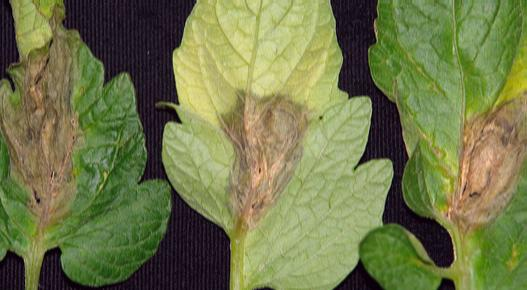Tomato mold leaf: (167, 0, 393, 290), (369, 0, 527, 290), (0, 0, 156, 290)
